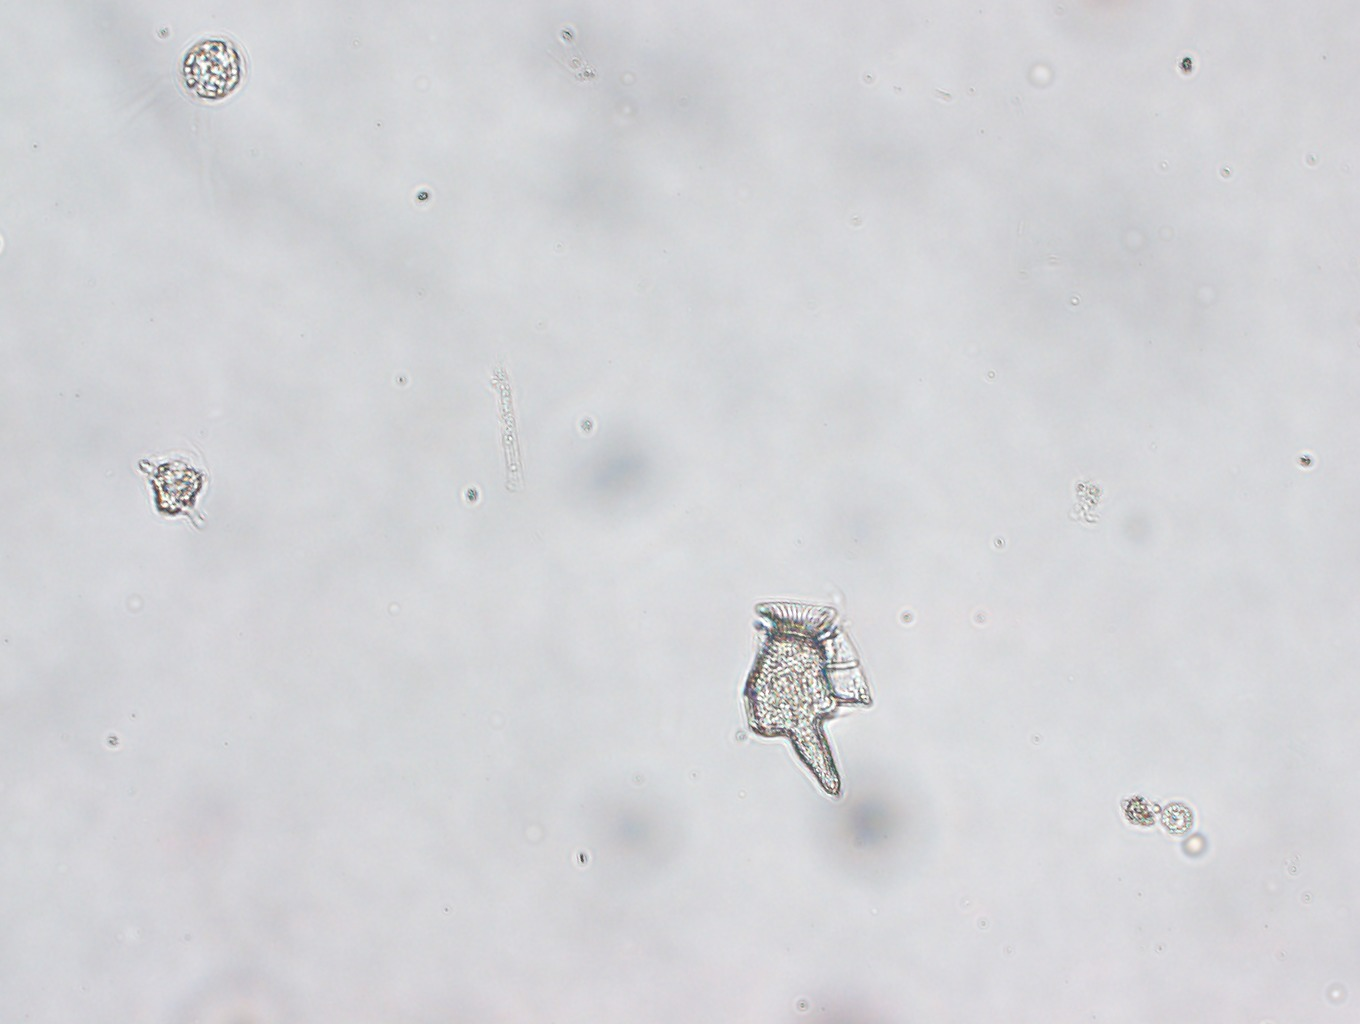dinophysis caudata: (742, 599, 874, 795)
